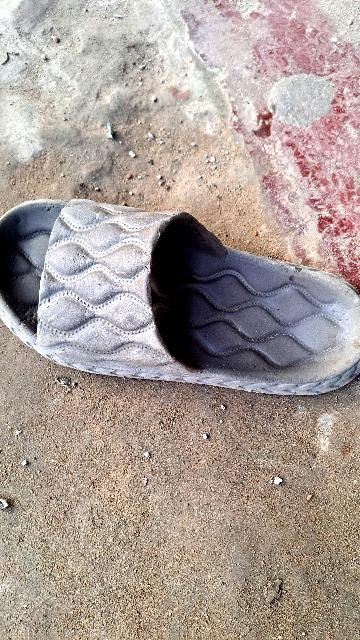sandal: (0, 188, 360, 412)
